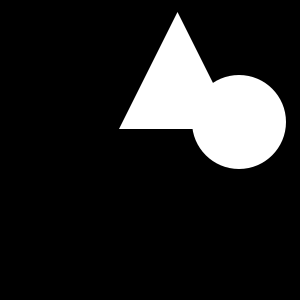rectangle: (192, 75, 286, 169)
triangle: (119, 12, 236, 129), (233, 145, 248, 160)
